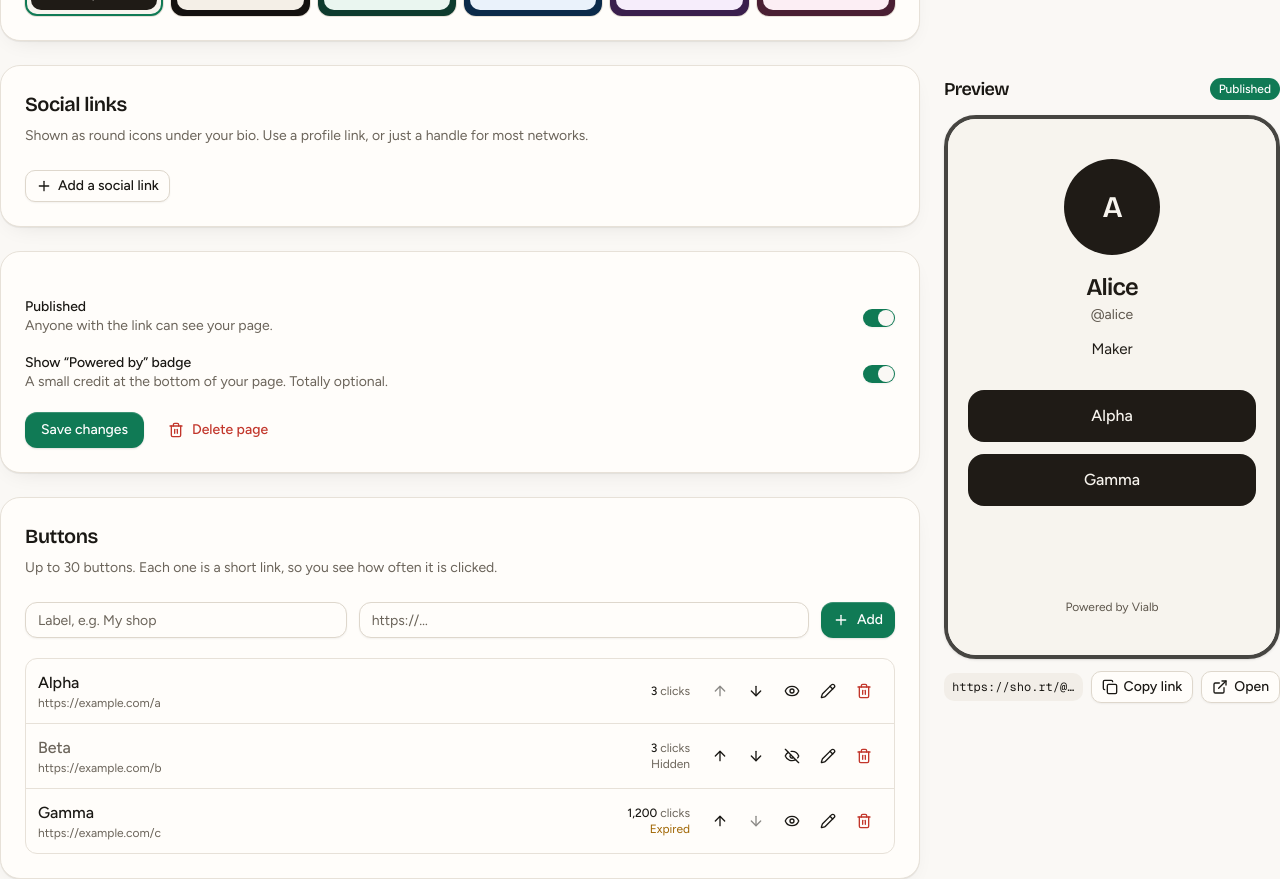
Scenario: BioEditor with a page and buttons › asks before removing a button
(page scrolled)
Click the button named "Remove Alpha": (864, 691) top-left (846, 673), bottom-right (882, 709)
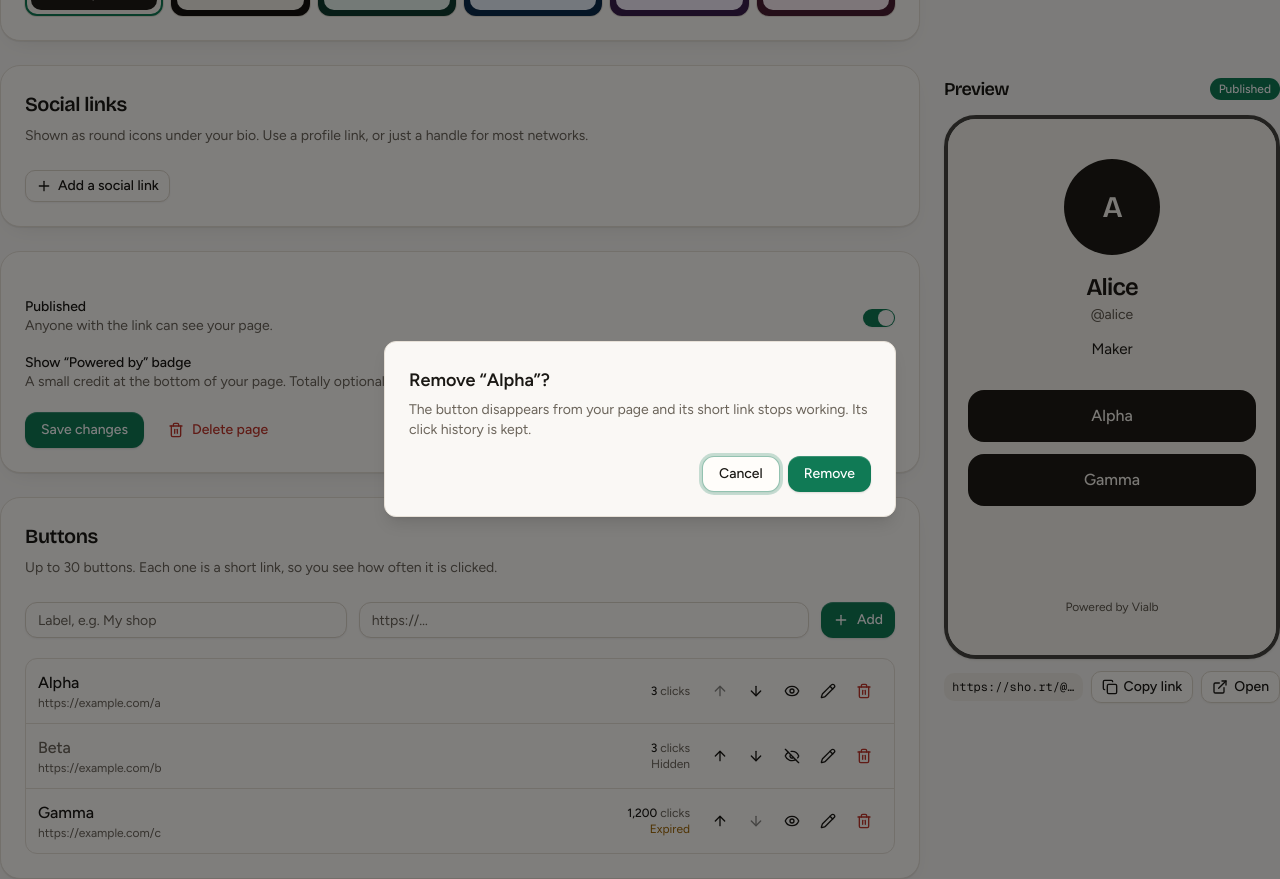
Click the button "Remove": (829, 474) top-left (788, 456), bottom-right (871, 492)
(page scrolled)
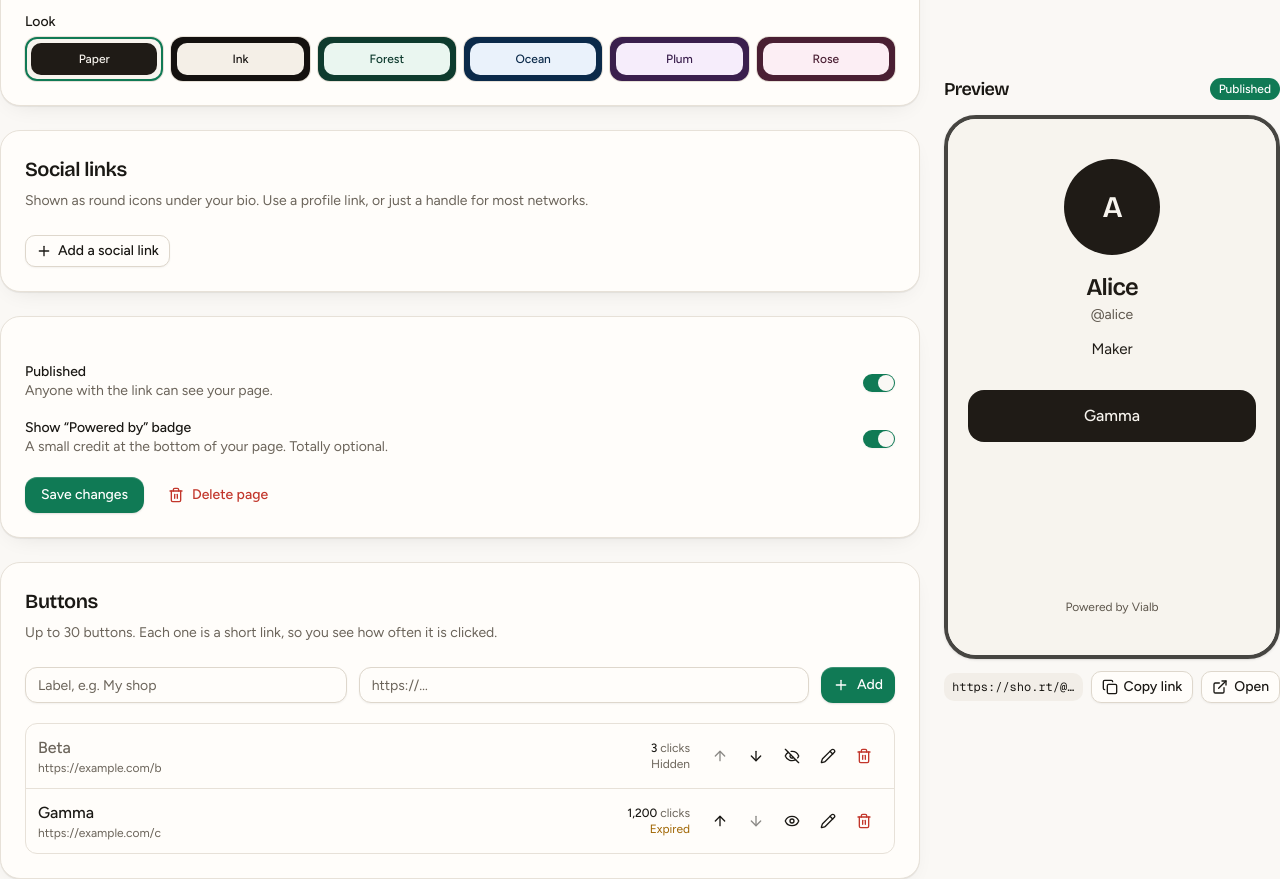
Result: the text "Alpha" is gone
